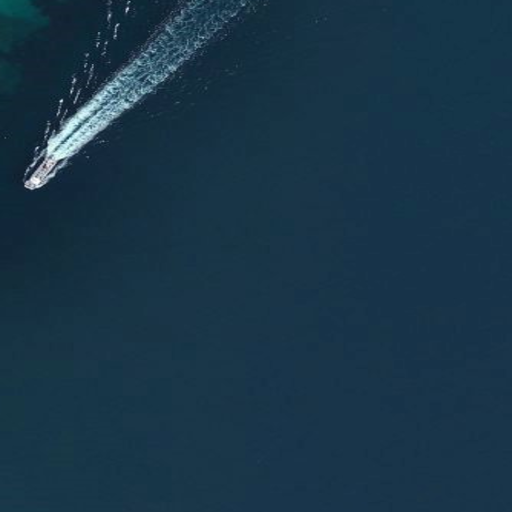ship: (20, 152, 61, 193)
